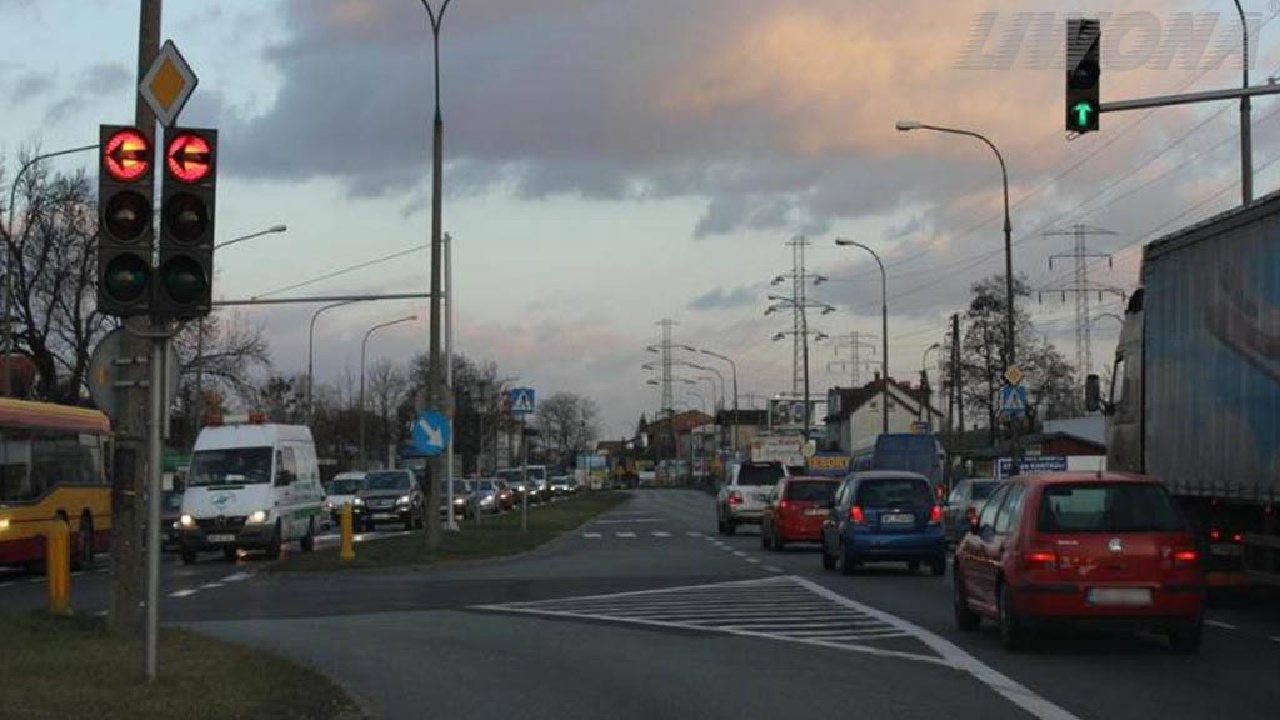C9: (413, 412, 449, 458)
D1: (136, 38, 198, 127)
Green: (1065, 20, 1097, 133)
Red: (99, 123, 150, 312), (163, 127, 211, 316)
